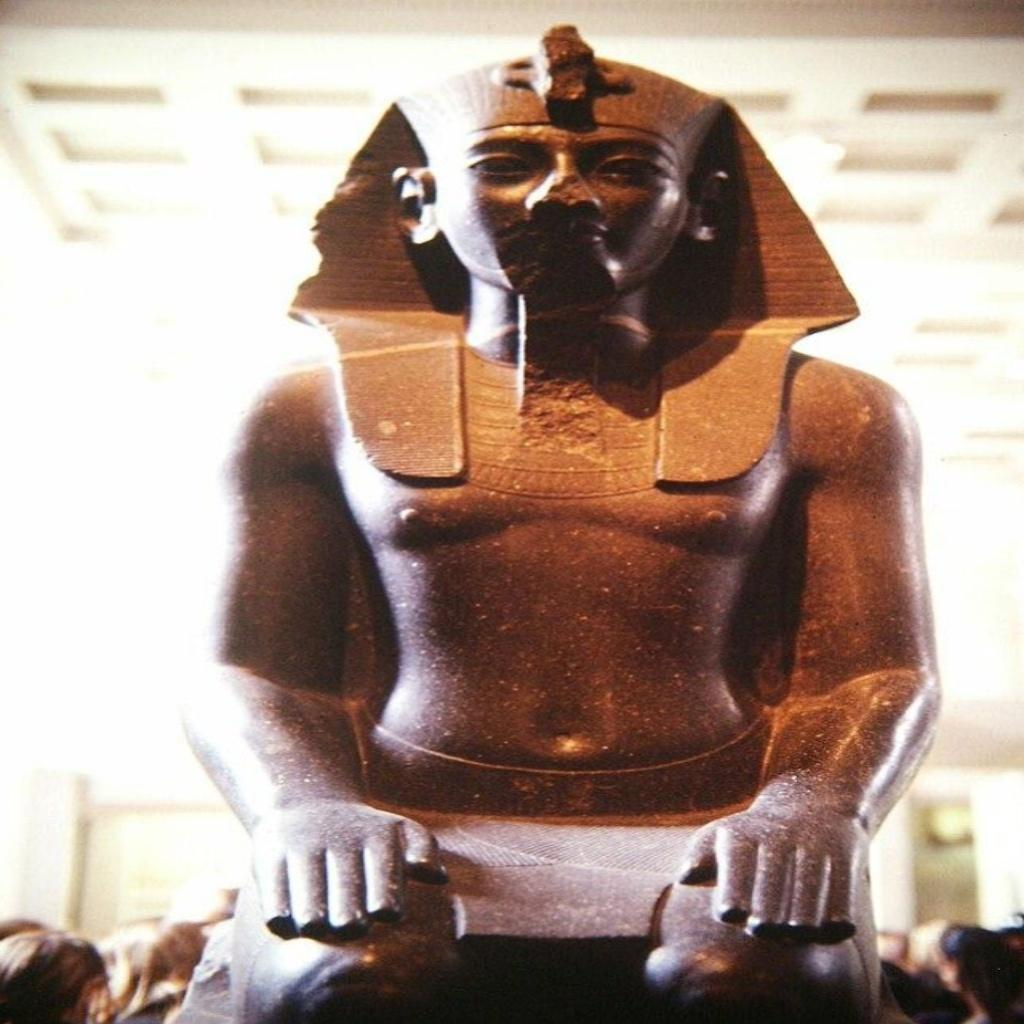Amenhotep III: (166, 21, 948, 1023)
